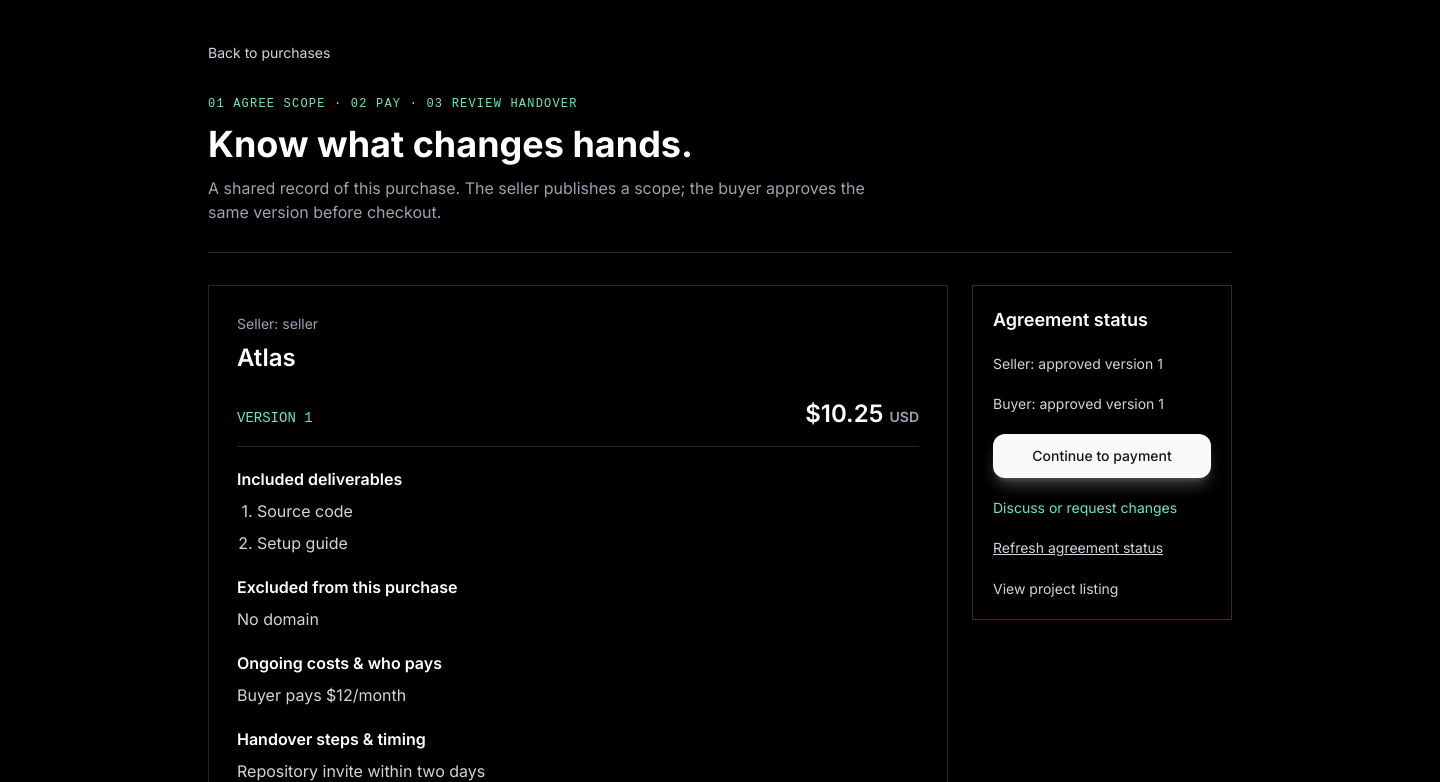
it: checkout forwards the approved version, prevents duplicate clicks and exposes retry failures
The width and height of the screenshot is (1440, 782).
What coordinates should you click on to do the following:
click the button "Continue to payment"
I would click on:
 (1102, 456)
Its box is [993, 434, 1211, 478].
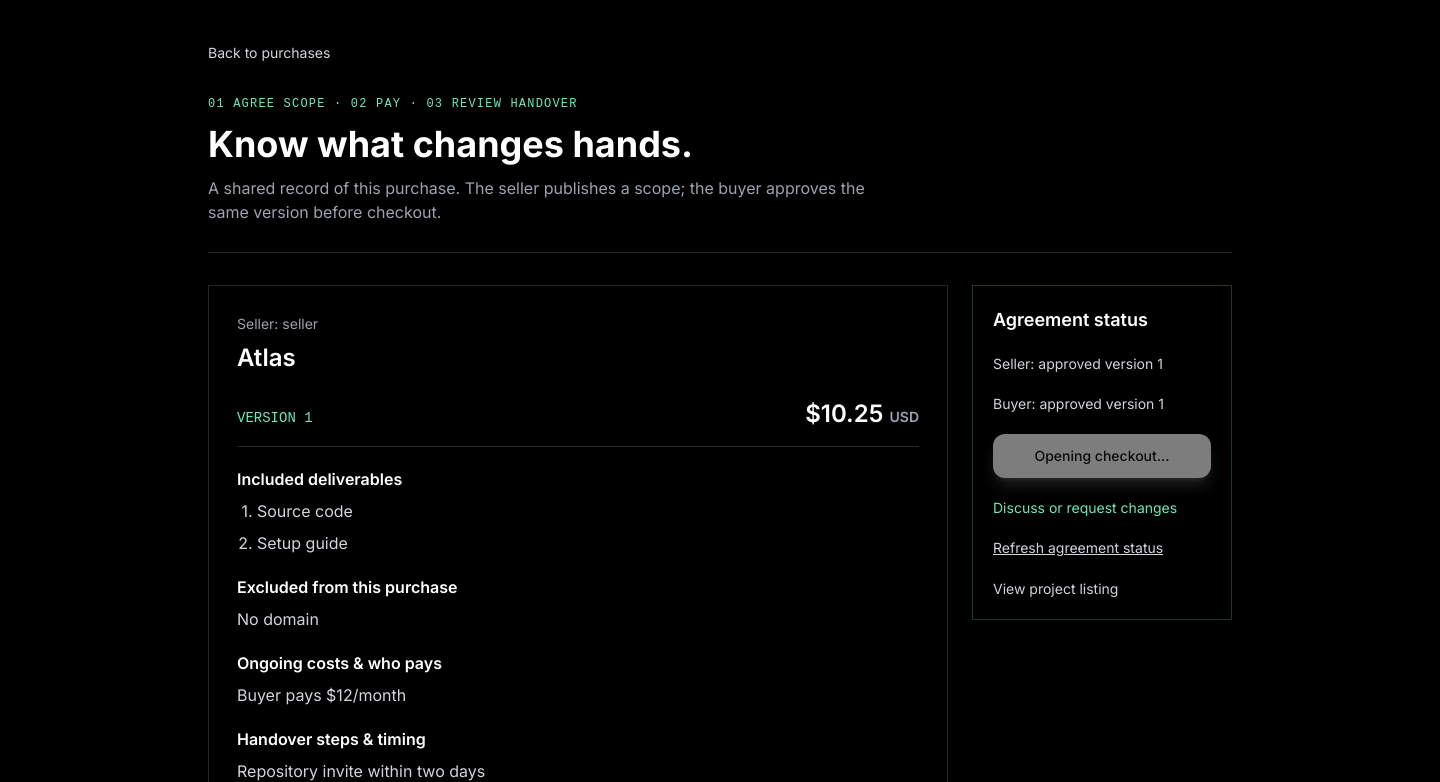
What coordinates should you click on to do the following:
click the button "Opening checkout…"
I would click on:
 (1102, 456)
Its box is [993, 434, 1211, 478].
(page scrolled)
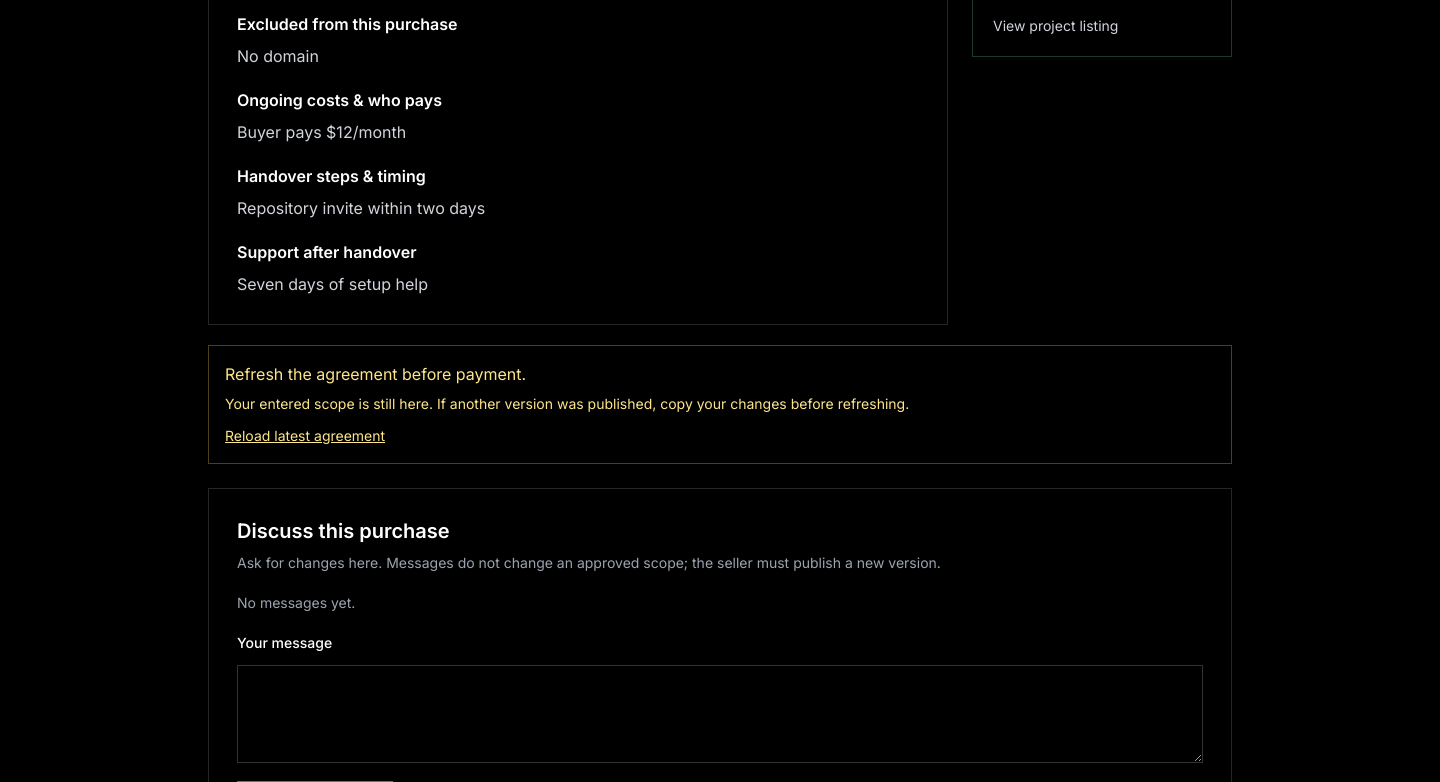
expect the message shows "Refresh the agreement before payment.": met, box [225, 364, 526, 384]
